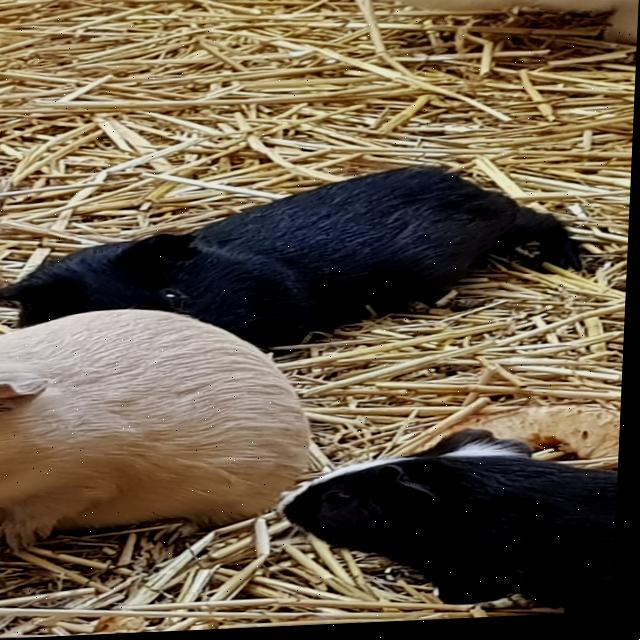guinea pig: (0, 156, 598, 369), (0, 299, 336, 548), (276, 436, 624, 629)
